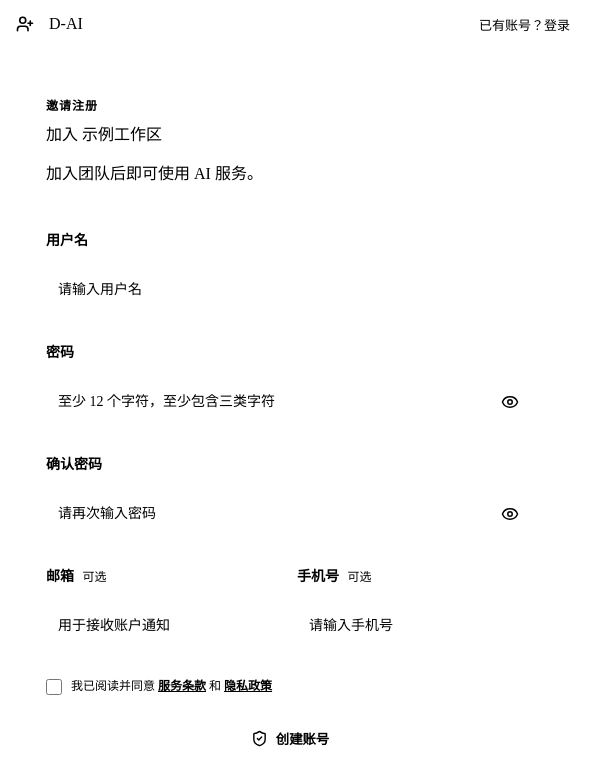
Test: public invitation registration › registers the account with the invitation legal versions
This screenshot has width=607, height=770.
Type "alice" into the field named "username" at x=302, y=290, box [46, 257, 558, 323]
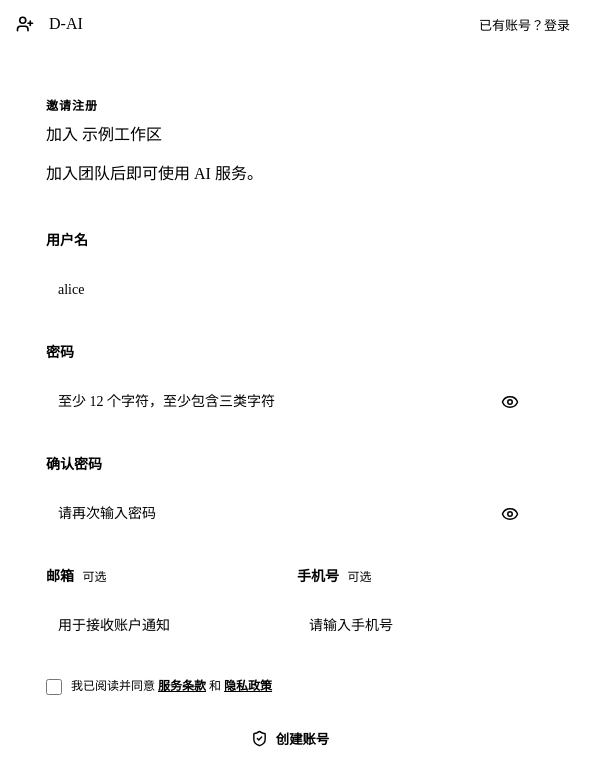
Type "Correct-Horse-47" into the password field named "password" at x=318, y=402, box [46, 369, 590, 435]
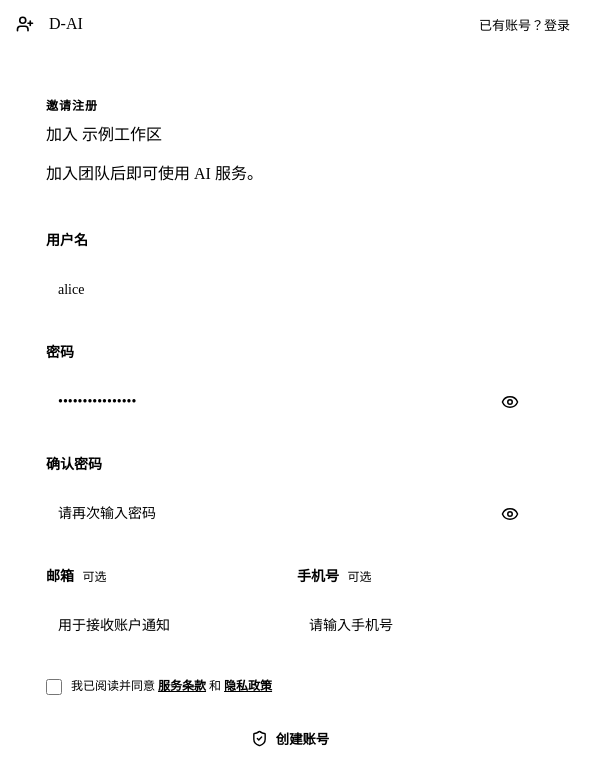
Type "Correct-Horse-47" into the password field named "confirmPassword" at x=318, y=514, box [46, 481, 590, 547]
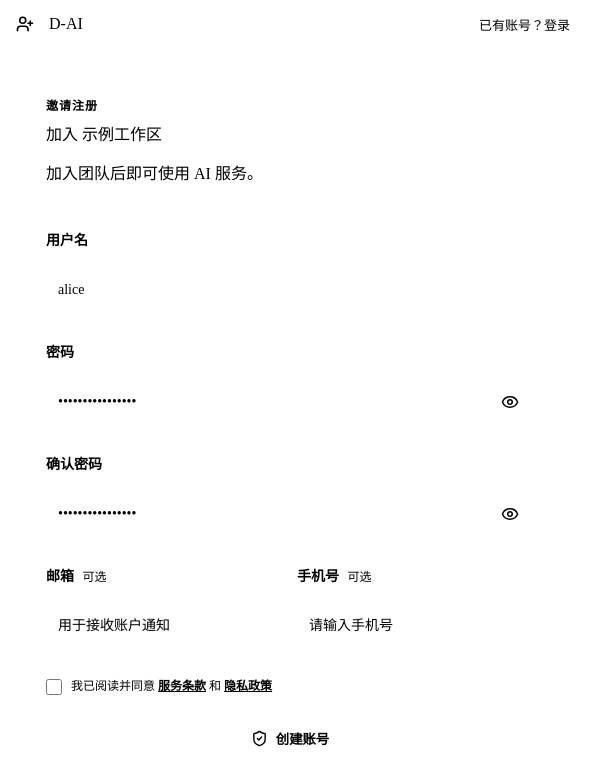
Type "alice@example.com" into the field named "email" at x=176, y=626, box [46, 593, 307, 659]
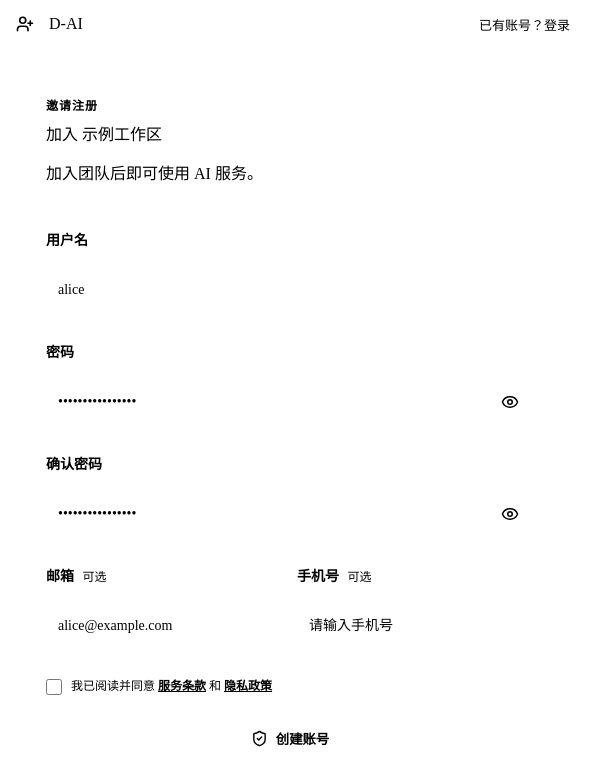
Click the checkbox named "accepted" at x=54, y=687, box [46, 679, 62, 695]
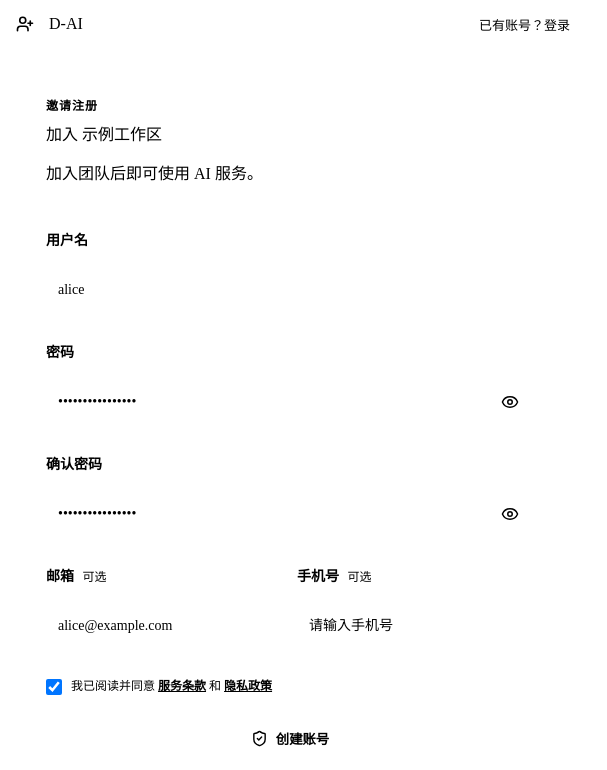
Submit the form
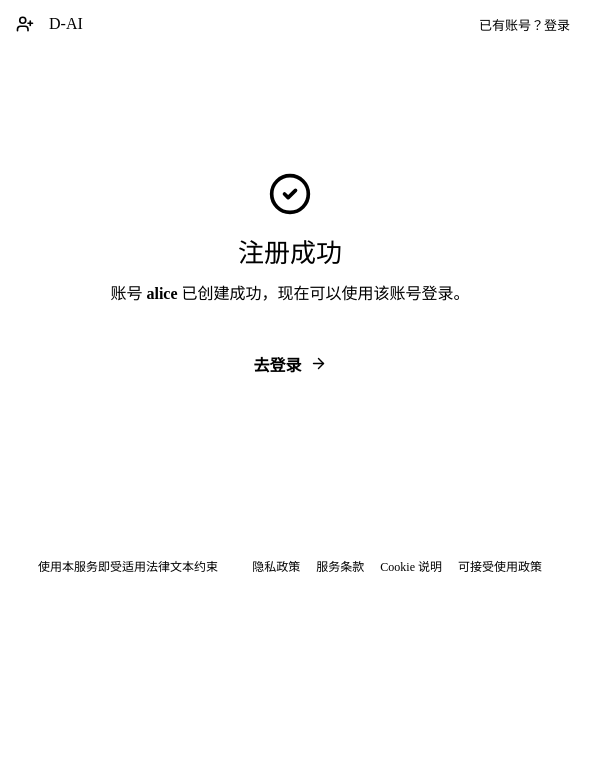
Check: the text "注册成功" is shown, box [238, 232, 342, 269]
Check: the text "alice" is shown, box [146, 285, 178, 302]
